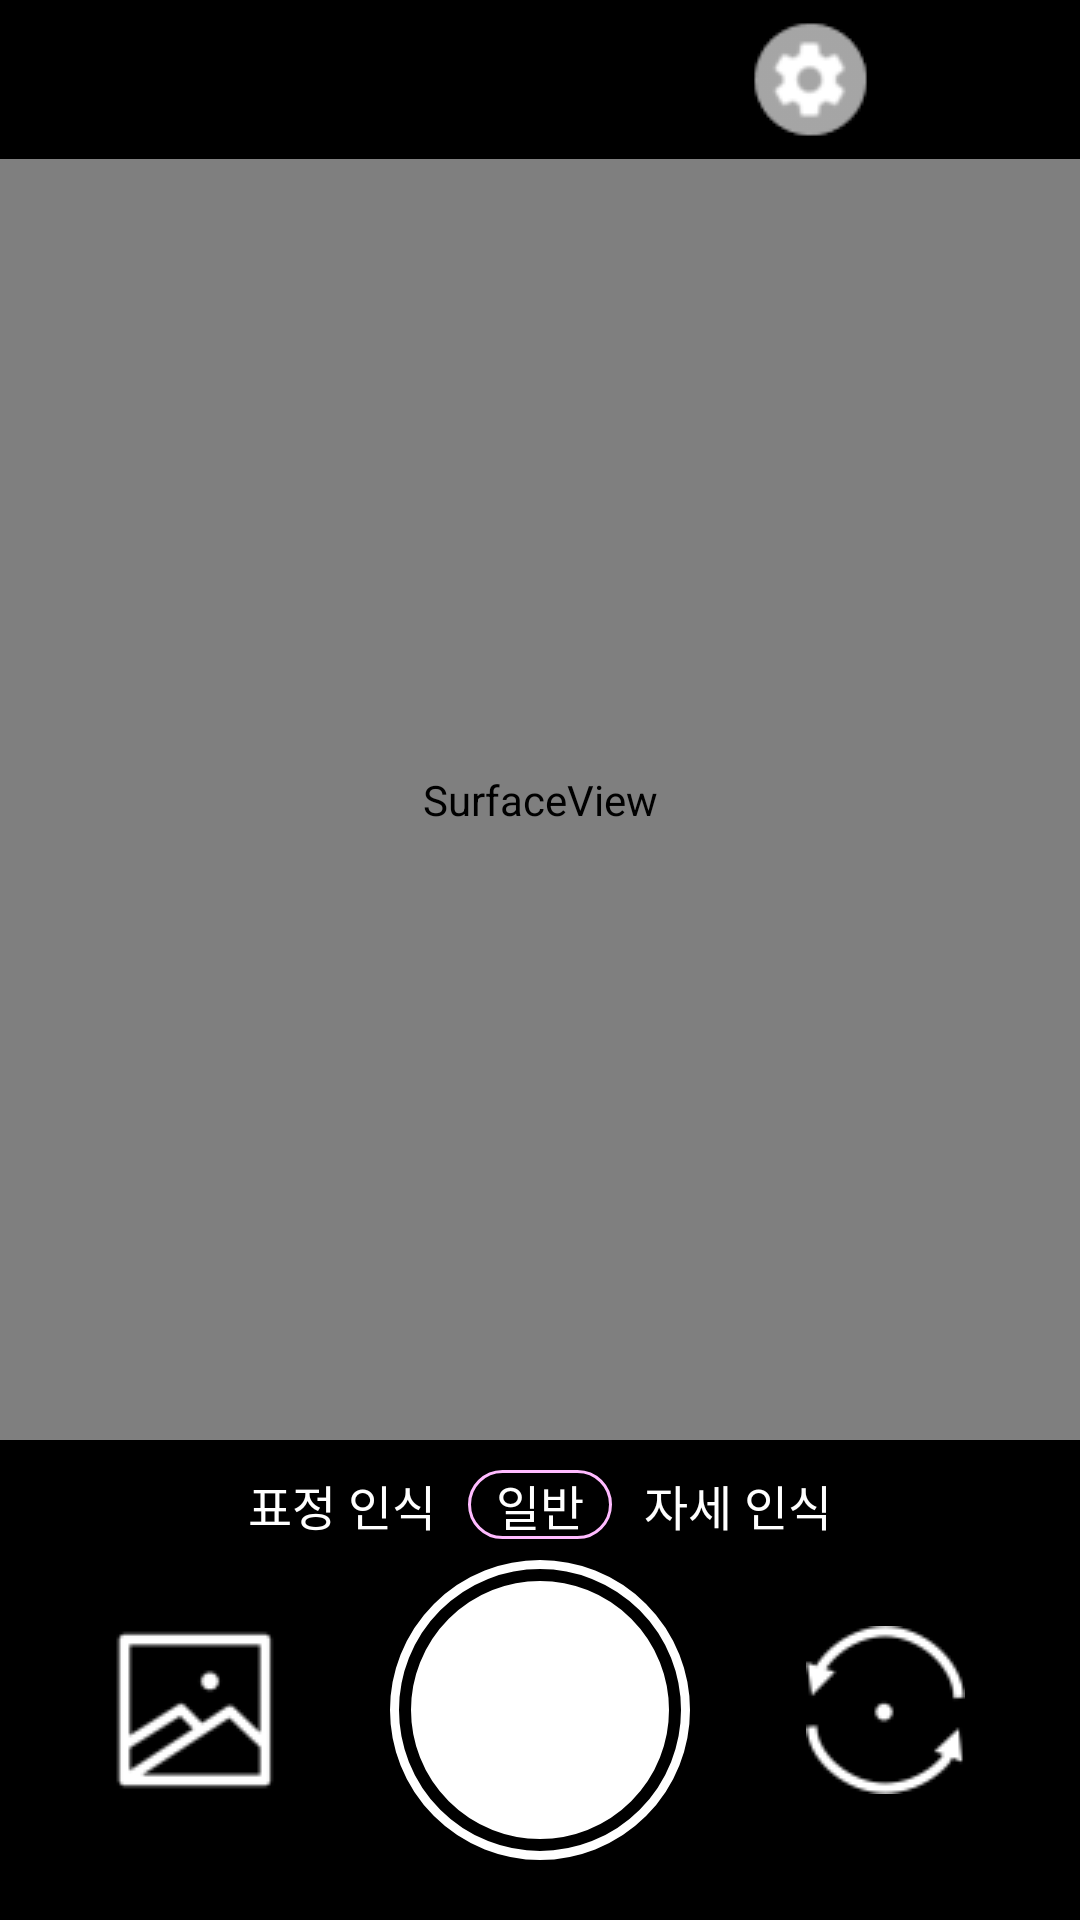

Icons on this 1080×1920 Android screen, each with its box as (x1, y1, x2, y2):
capture: (390, 1560, 690, 1860)
change facing: (806, 1626, 965, 1794)
gallery: (116, 1632, 272, 1788)
setting: (754, 23, 867, 136)
